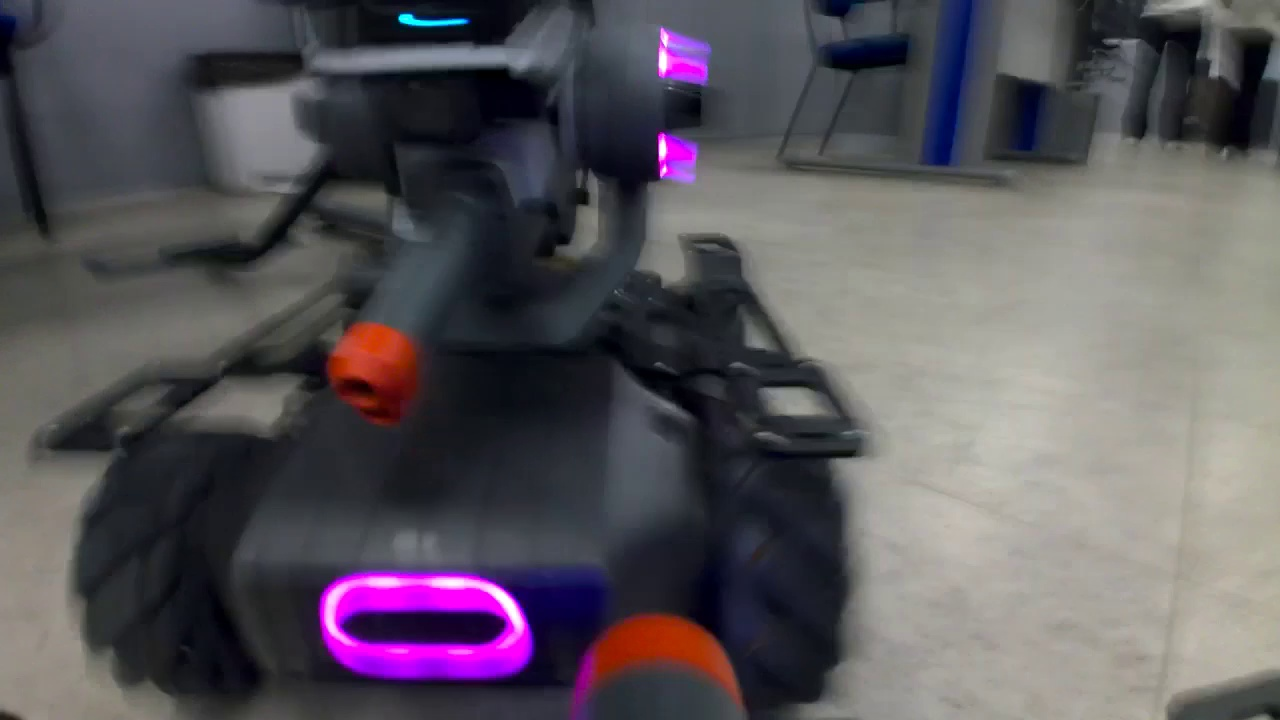robot: (26, 15, 886, 696)
